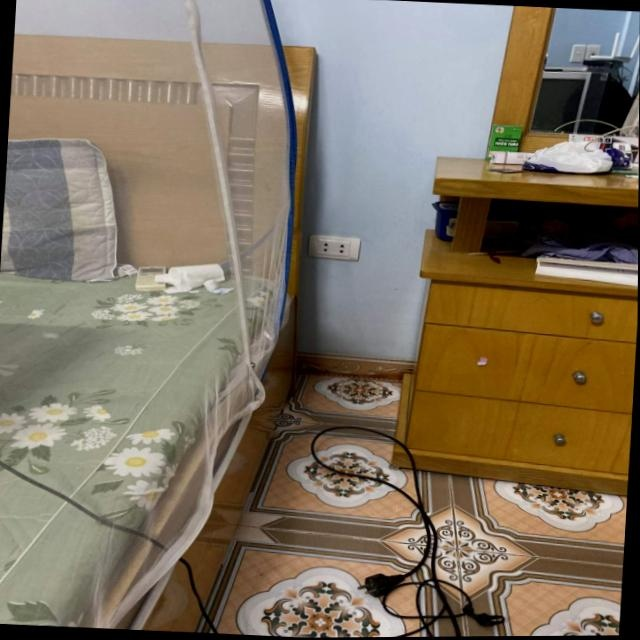outlet: (307, 233, 360, 261)
